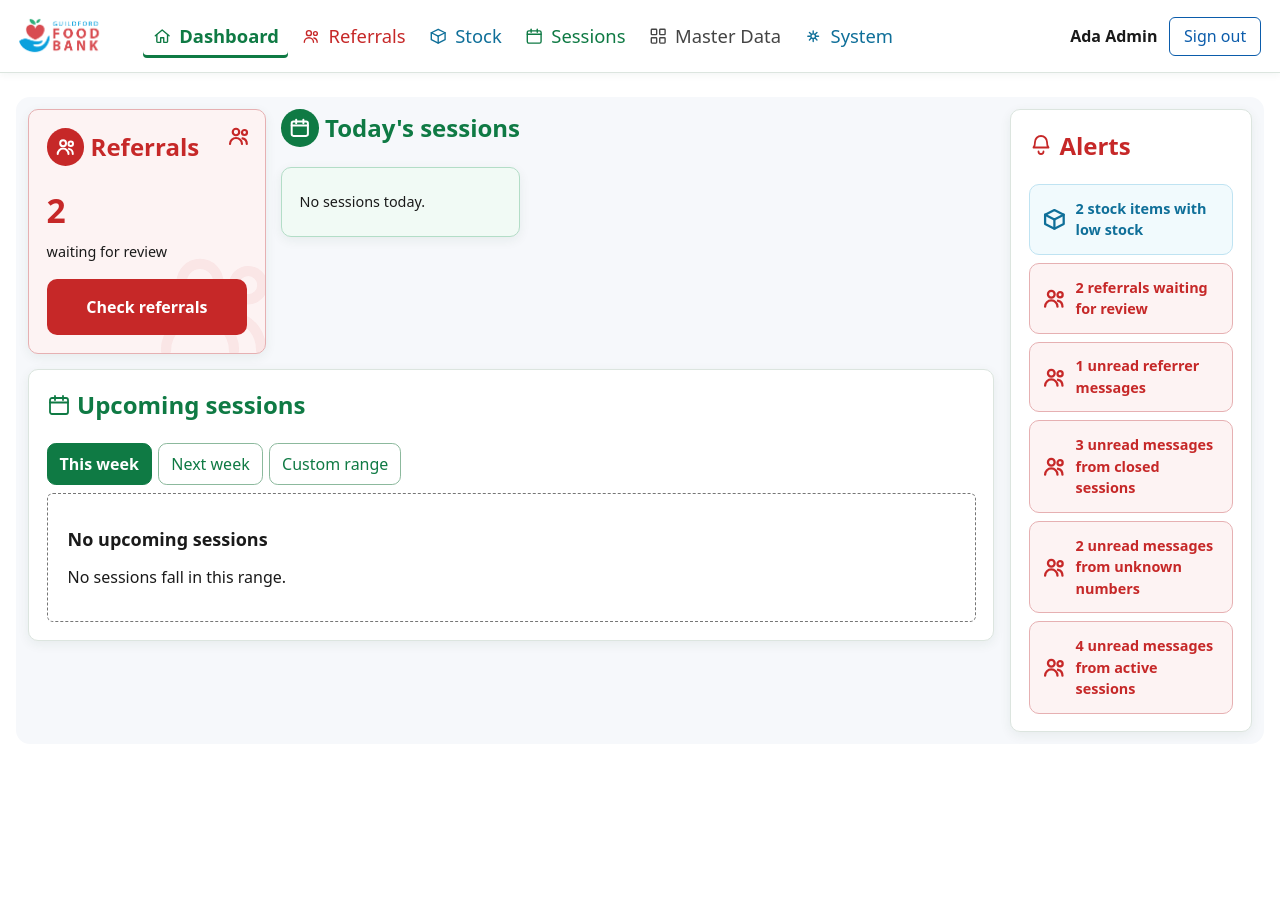
Scenario: the upcoming-sessions table, Custom range › resets to page 1 when the custom date range narrows without a tab click
Expected: the heading "Today's sessions" is shown, x1=281 y1=109 x2=520 y2=147
Click the tab "Custom range" at (335, 464), box x1=269 y1=443 x2=401 y2=485
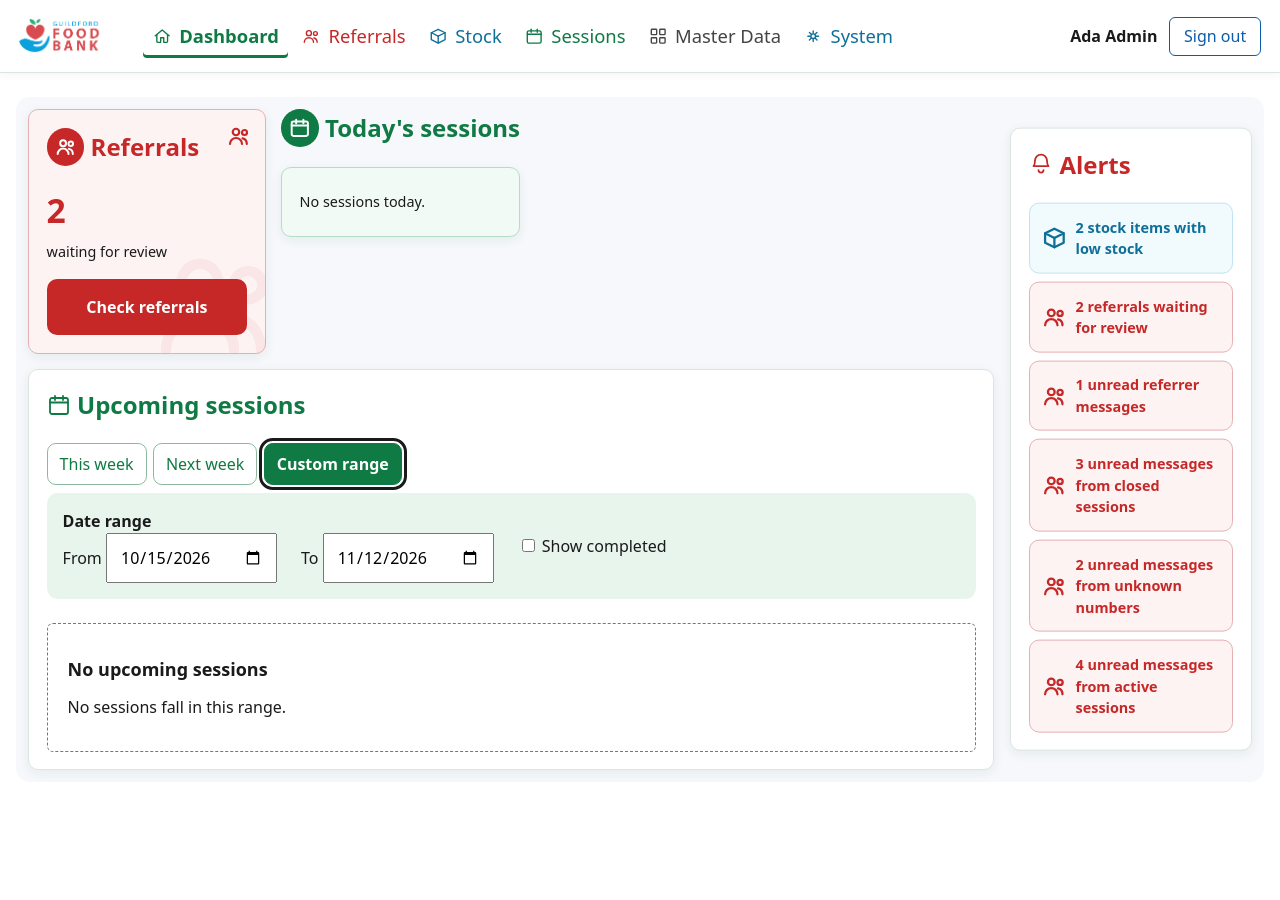
Type "2026-06-01" into the date field labelled "From" at (192, 558), box x1=106 y1=533 x2=277 y2=583
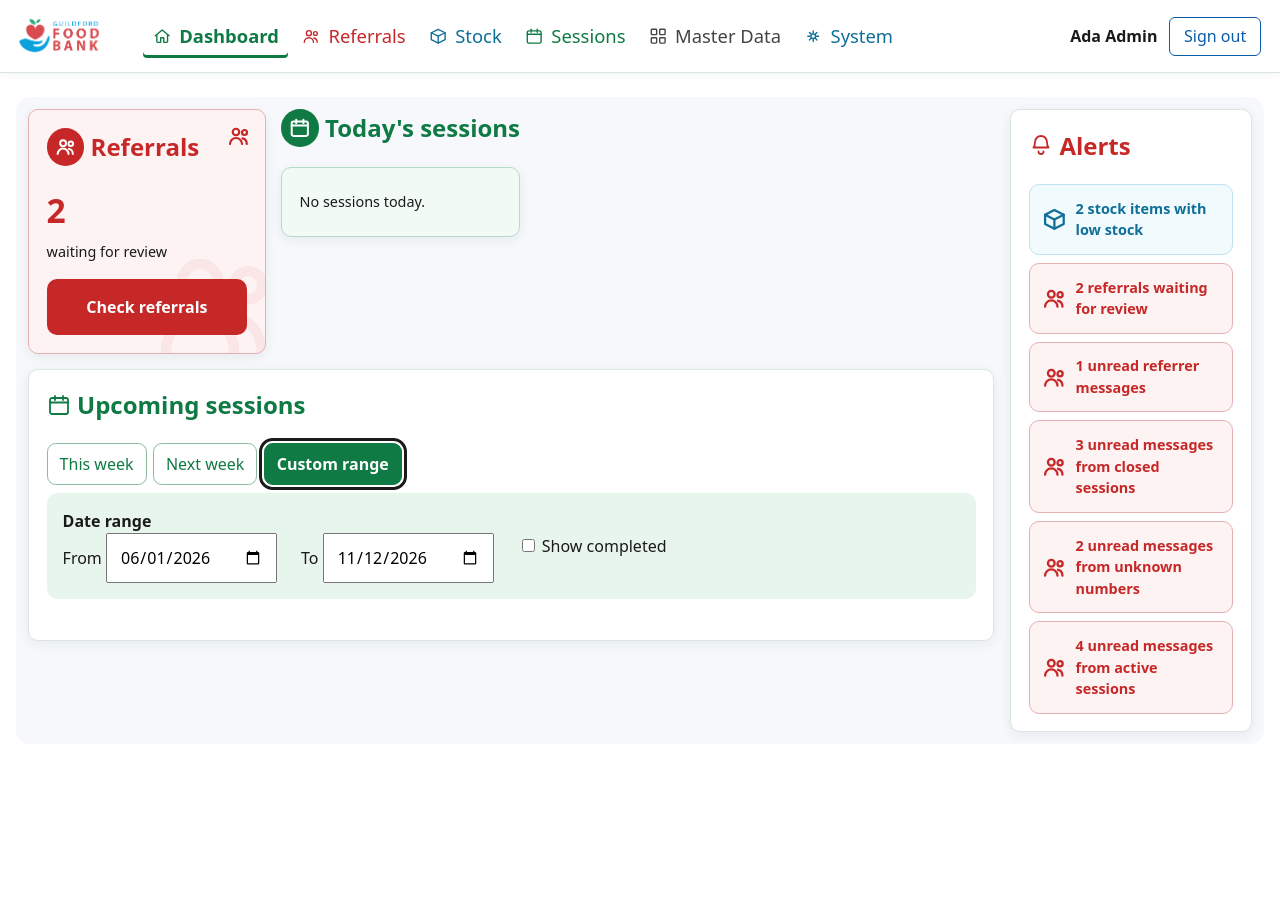
Type "2026-06-30" into the date field labelled "To" at (408, 558), box x1=323 y1=533 x2=494 y2=583
(page scrolled)
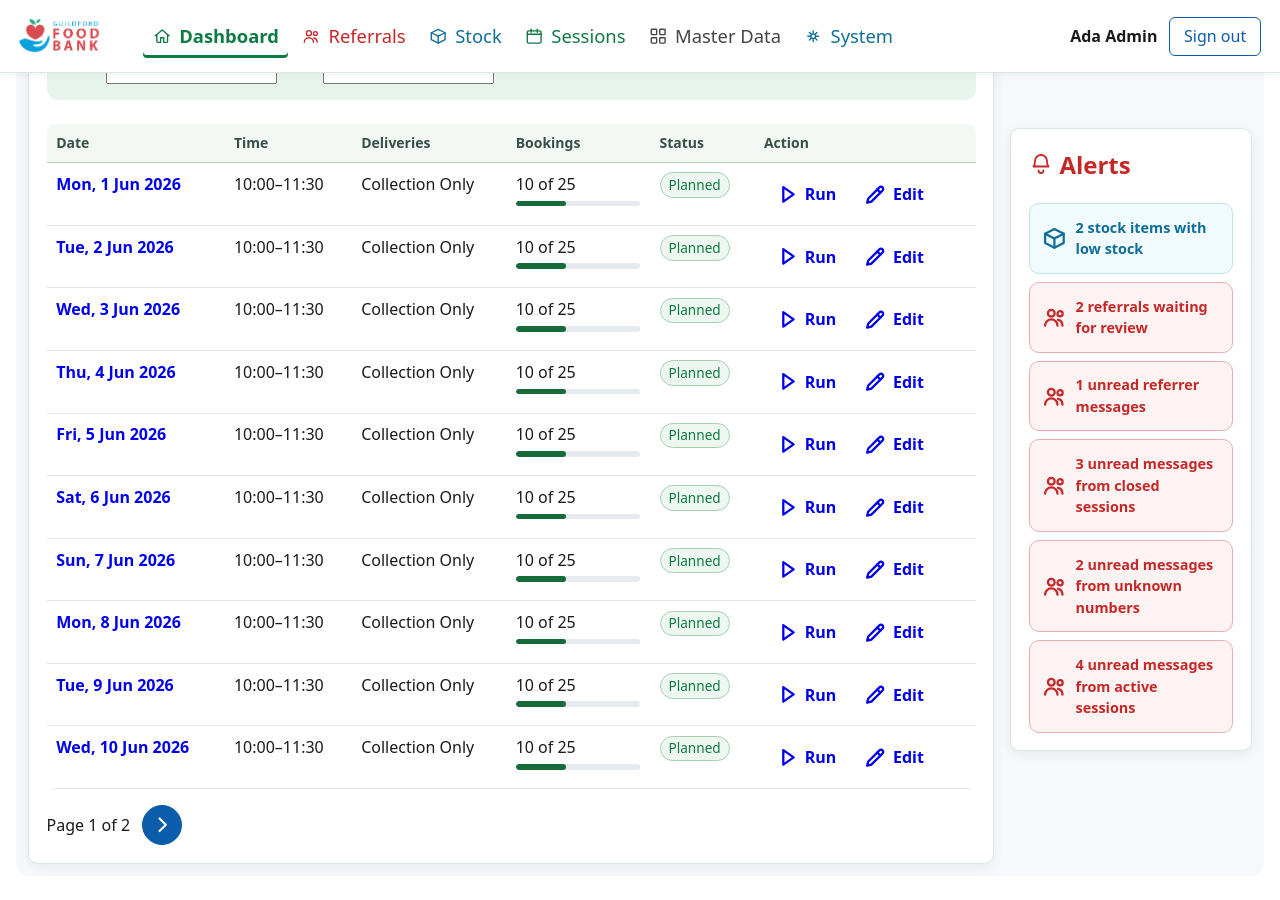
Now the text "Page 1 of 2" is shown, box x1=47 y1=813 x2=130 y2=837
Click the button named "Next page" at (162, 825), box x1=142 y1=805 x2=182 y2=845
(page scrolled)
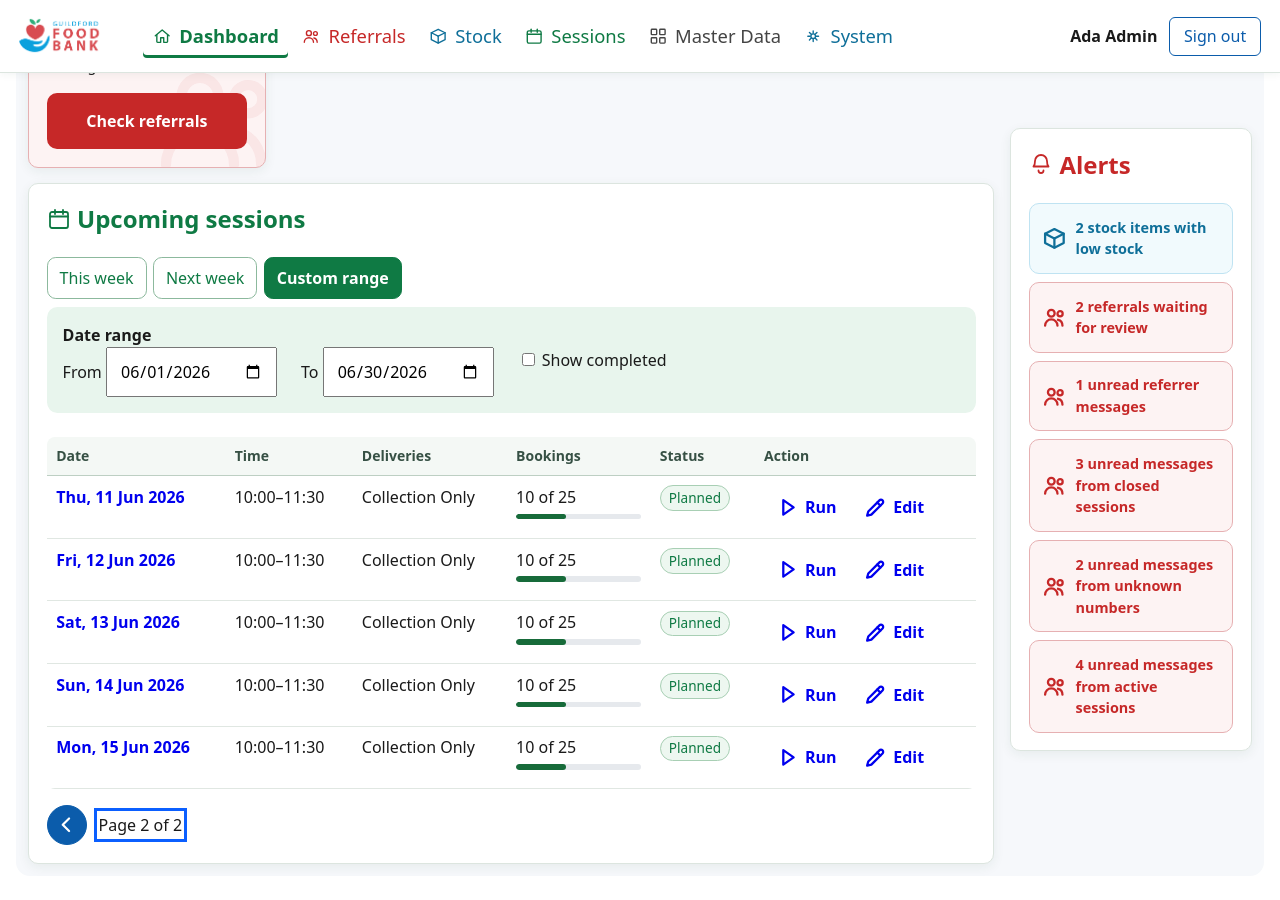
Now the text "Page 2 of 2" is shown, box x1=99 y1=813 x2=182 y2=837
Type "2026-06-03" into the date field labelled "To" at (408, 372), box x1=323 y1=347 x2=494 y2=397
(page scrolled)
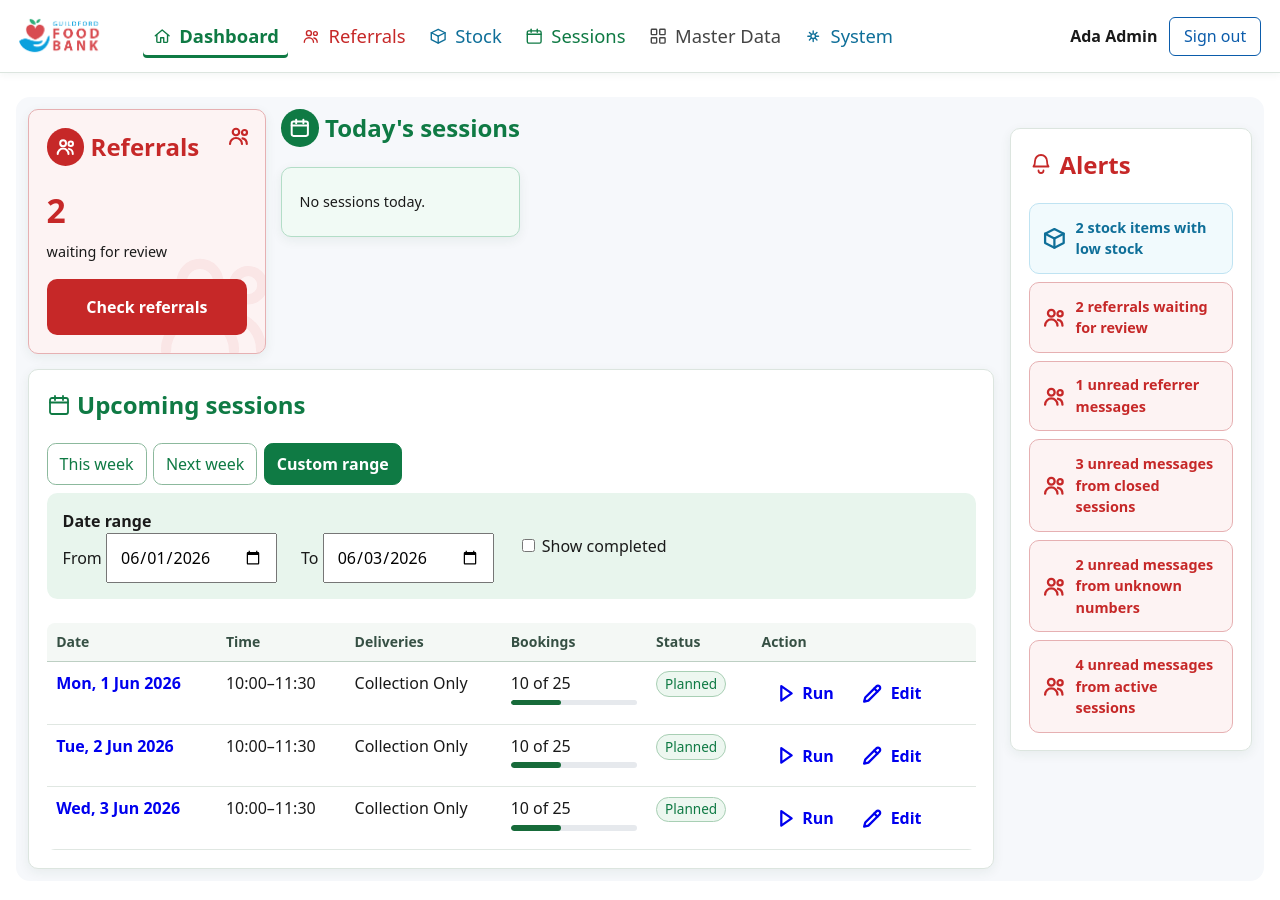
Expected: the text "No sessions fall in this range." is not shown
Now the number of rows is 4, box x1=47 y1=622 x2=976 y2=662; x1=47 y1=662 x2=976 y2=724; x1=47 y1=724 x2=976 y2=787; x1=47 y1=787 x2=976 y2=849
Now the navigation bar "Pagination" is gone
